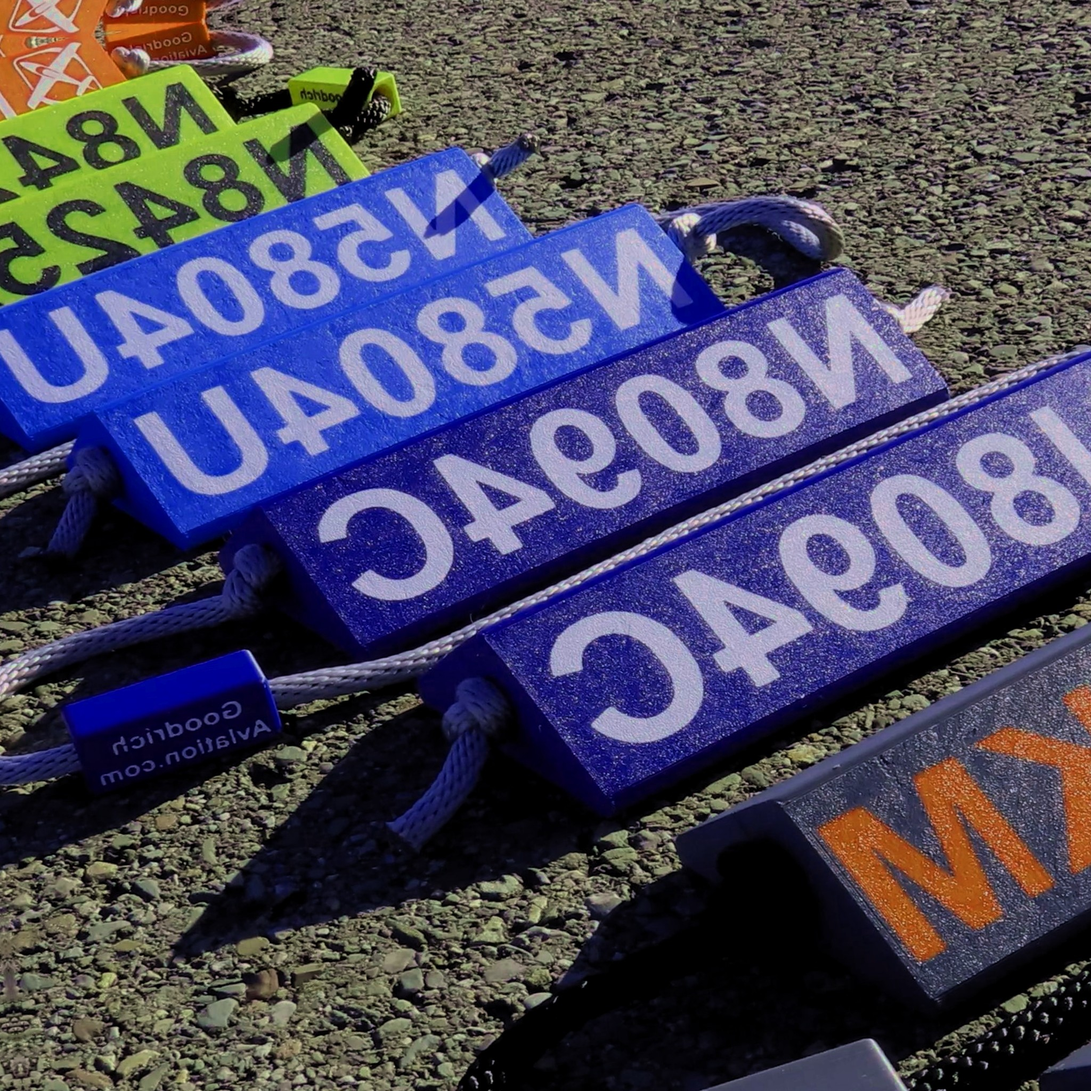chock: (380, 324, 1091, 845), (186, 256, 978, 683), (43, 194, 748, 570), (642, 499, 1091, 1059), (0, 134, 560, 462), (0, 88, 408, 357), (0, 51, 272, 234)
